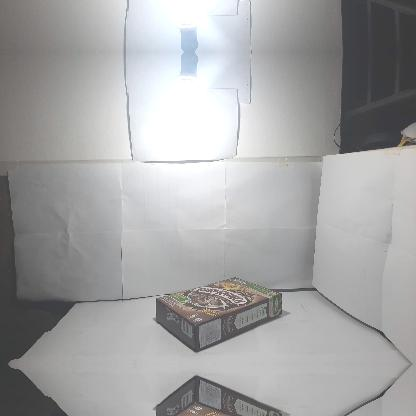Koko-Krunch: (156, 276, 283, 350), (155, 378, 283, 415)
